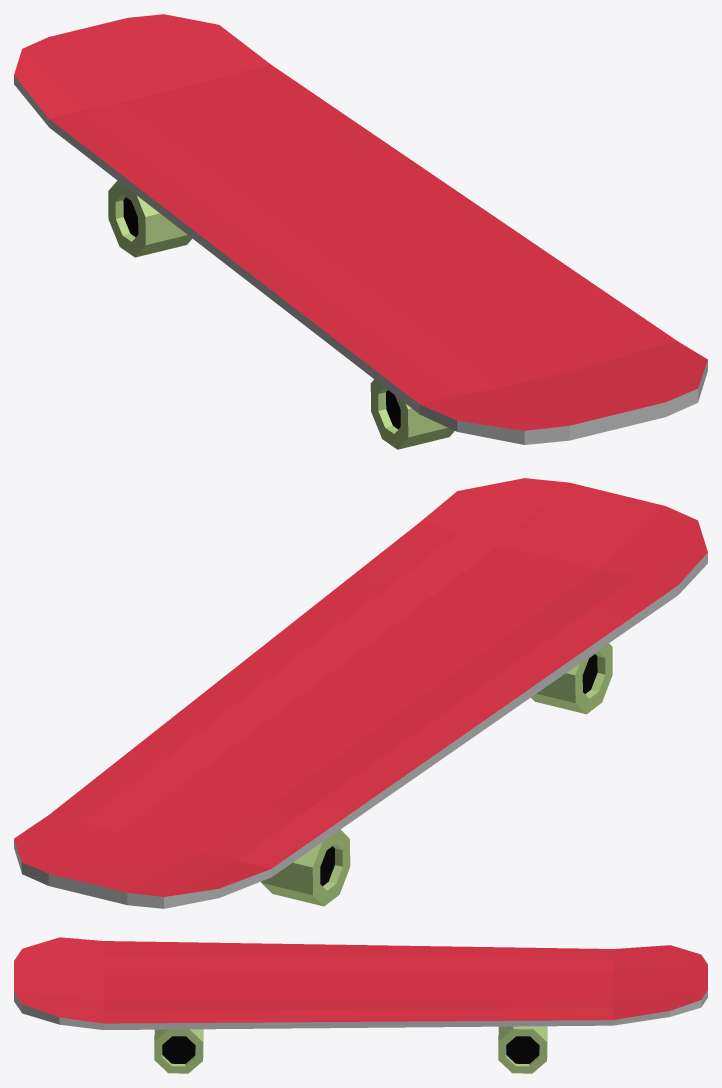
Rendered from Skateboard_Pink.fbx.
3 renders of one model, top to bottom at view 1: azimuth 30°, elevation 25°; view 2: azimuth 150°, elevation 25°; view 3: azimuth 270°, elevation 25°, orthographic. The views are drawn at different scales.
Visible parts, largest first — view 1: Skateboard_Pink; view 2: Skateboard_Pink; view 3: Skateboard_Pink.
Boxes of the visible parts, box(x1,y1,x2,y2) form: Skateboard_Pink: box(14, 14, 707, 449); Skateboard_Pink: box(14, 478, 707, 908); Skateboard_Pink: box(14, 937, 707, 1073).
Size of the model in its own units: 40.39 by 14.58 by 143.
